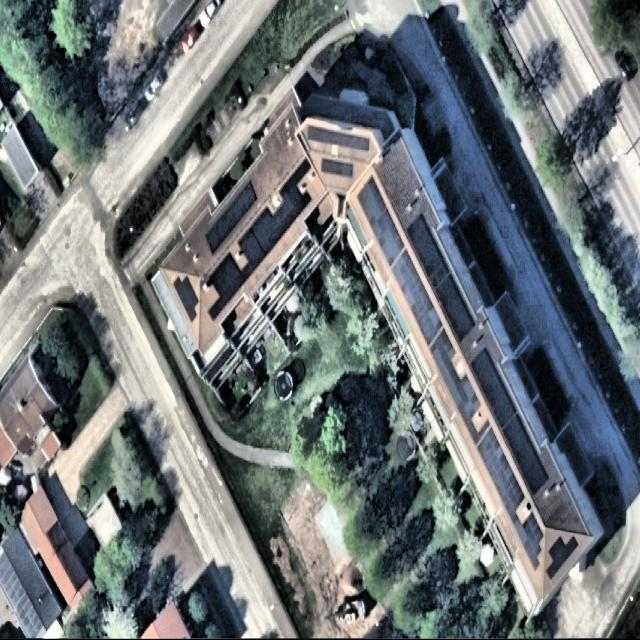roof_pv: (388, 254, 442, 346), (199, 180, 262, 258), (355, 177, 405, 266), (471, 342, 518, 427), (505, 417, 550, 498), (475, 430, 525, 502), (410, 211, 449, 285), (442, 280, 477, 342), (306, 122, 371, 154), (240, 206, 280, 252), (276, 187, 312, 236), (173, 270, 202, 328), (213, 255, 245, 301), (445, 376, 478, 416), (433, 330, 456, 386), (545, 535, 576, 575), (524, 508, 544, 570), (320, 154, 355, 185), (206, 290, 234, 324), (503, 501, 523, 548), (276, 169, 300, 200), (296, 152, 313, 180), (245, 254, 263, 276)
